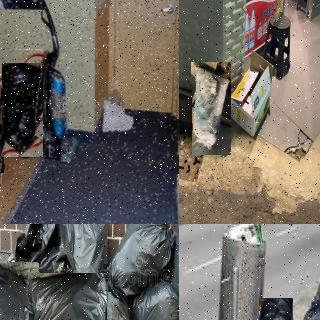Garbage: (105, 224, 178, 297), (6, 224, 75, 289), (2, 63, 43, 157), (28, 272, 107, 320), (192, 63, 231, 157), (56, 224, 112, 286), (0, 262, 39, 320), (93, 276, 142, 320), (131, 276, 179, 320), (258, 297, 293, 320)
